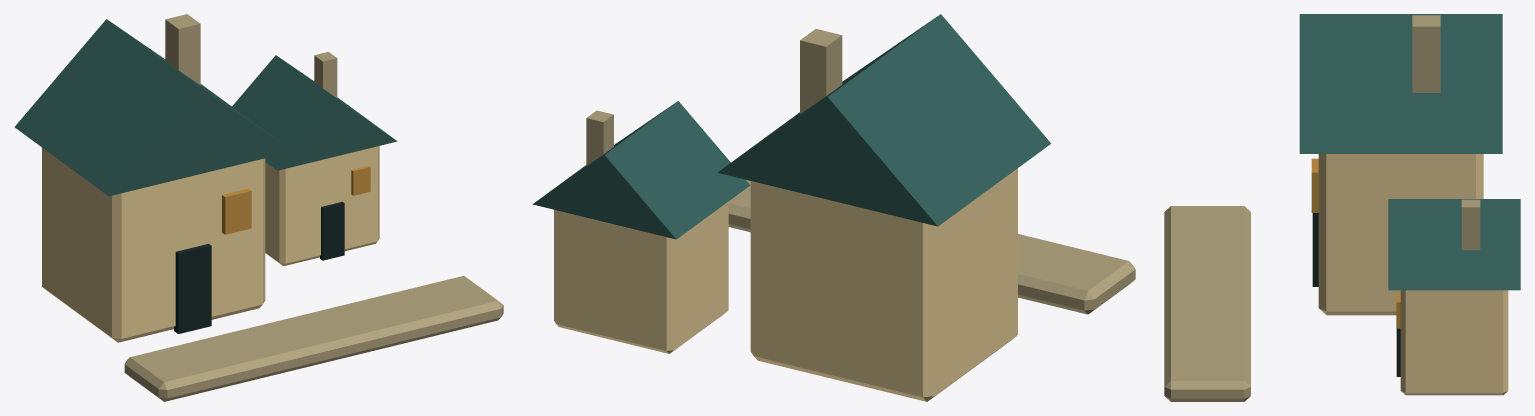
Rendered from hamlet.glb.
The picture shows the model from 3 angles, left to right: view 1: azimuth 30°, elevation 25°; view 2: azimuth 150°, elevation 25°; view 3: azimuth 270°, elevation 25°; orthographic projection. The views are drawn at different scales.
Visible parts, largest first — view 1: hamlet; view 2: hamlet; view 3: hamlet.
Part boxes in pixels (box(x1,y1,x2,y2)): hamlet: box(14, 14, 503, 401); hamlet: box(532, 14, 1135, 401); hamlet: box(1164, 14, 1520, 401).
Bounding box in the file's own units: 0.64 × 0.4607 × 0.5342.
